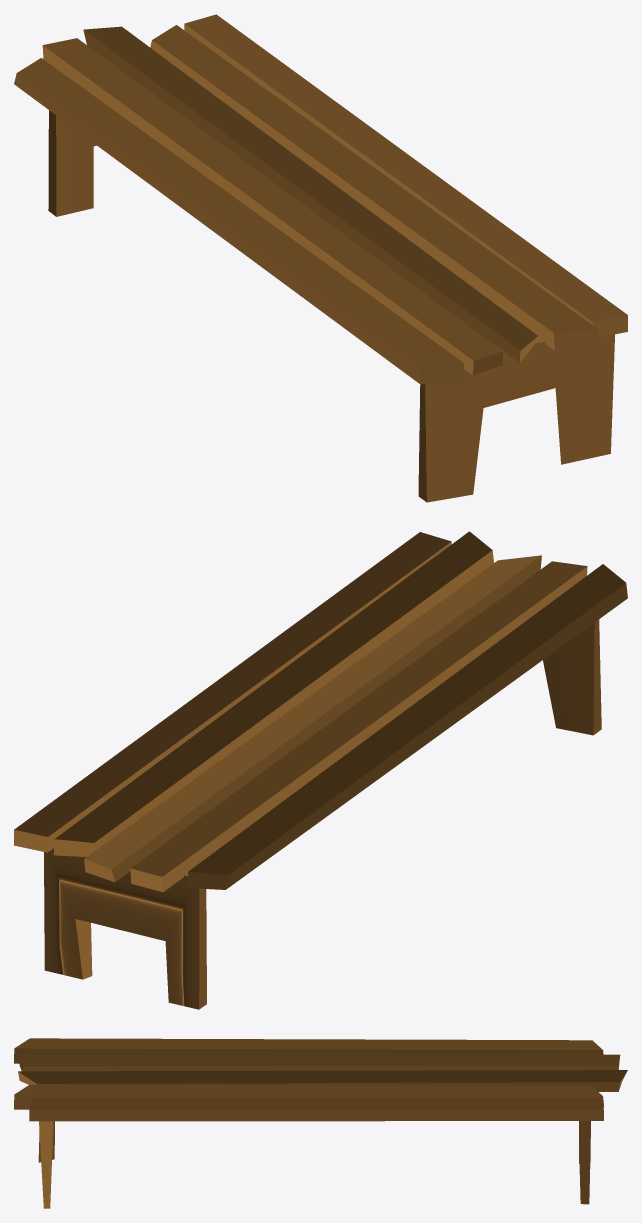
Rendered from bench.fbx.
3 renders of one model, top to bottom at view 1: azimuth 30°, elevation 25°; view 2: azimuth 150°, elevation 25°; view 3: azimuth 270°, elevation 25°, orthographic. The views are drawn at different scales.
Visible parts, largest first — view 1: bench; view 2: bench; view 3: bench.
Part boxes in pixels (x1,y1,x2,y2): bench: (14,14,627,502); bench: (14,531,627,1009); bench: (14,1038,627,1208).
Size of the model in its own units: 35.71 by 24.57 by 130.
